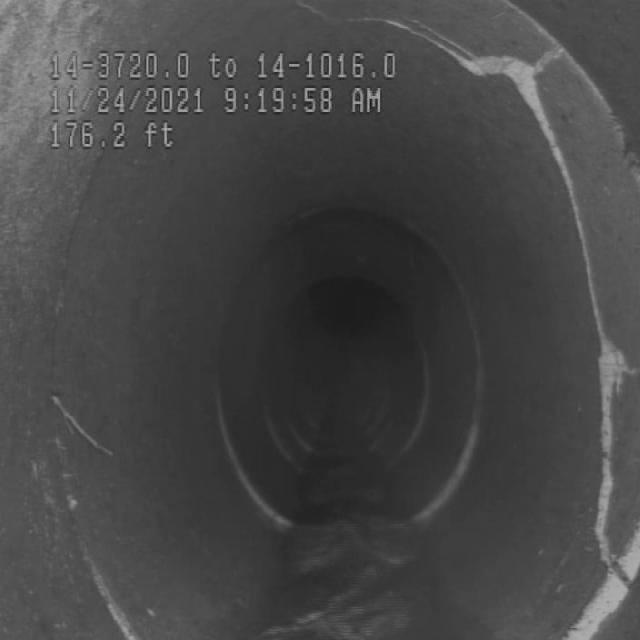Fracture: (489, 24, 629, 562)
